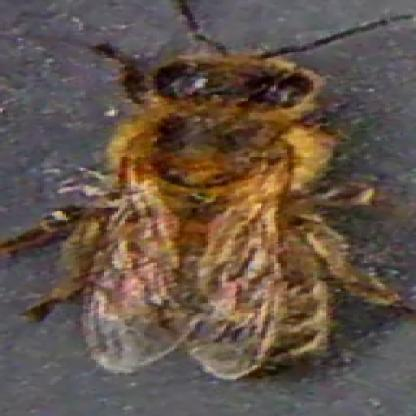bee: (87, 48, 348, 375)
